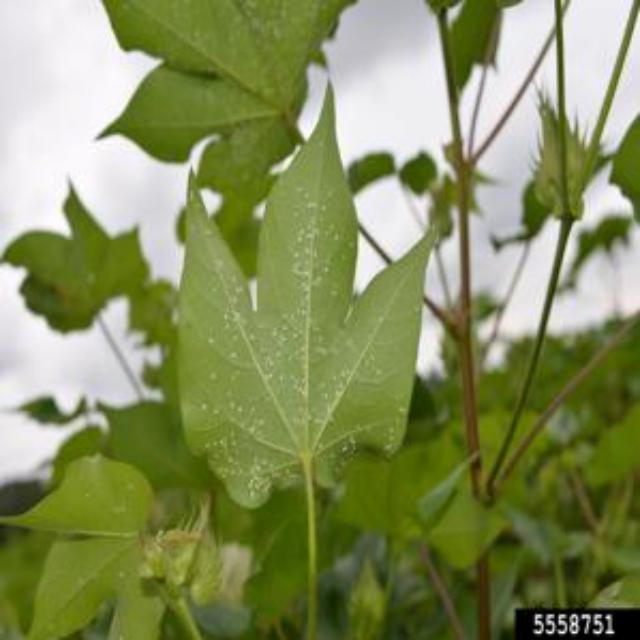Silverleaf whitefly: (131, 130, 489, 518)
